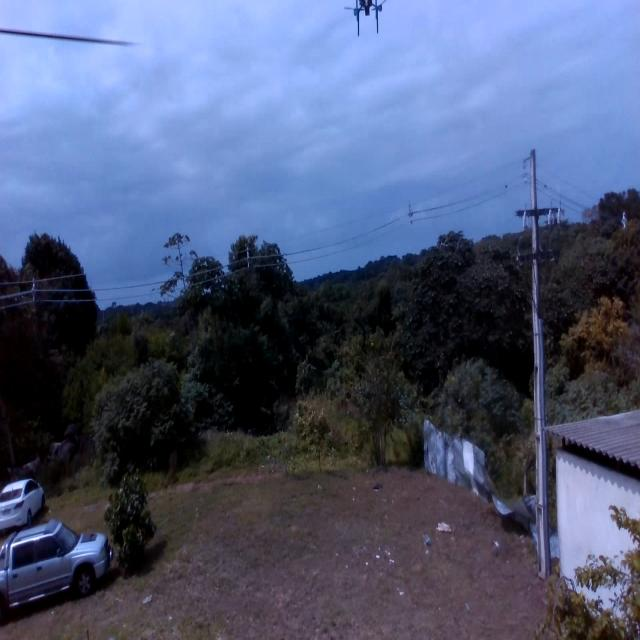-uav-: (338, 0, 392, 45)
